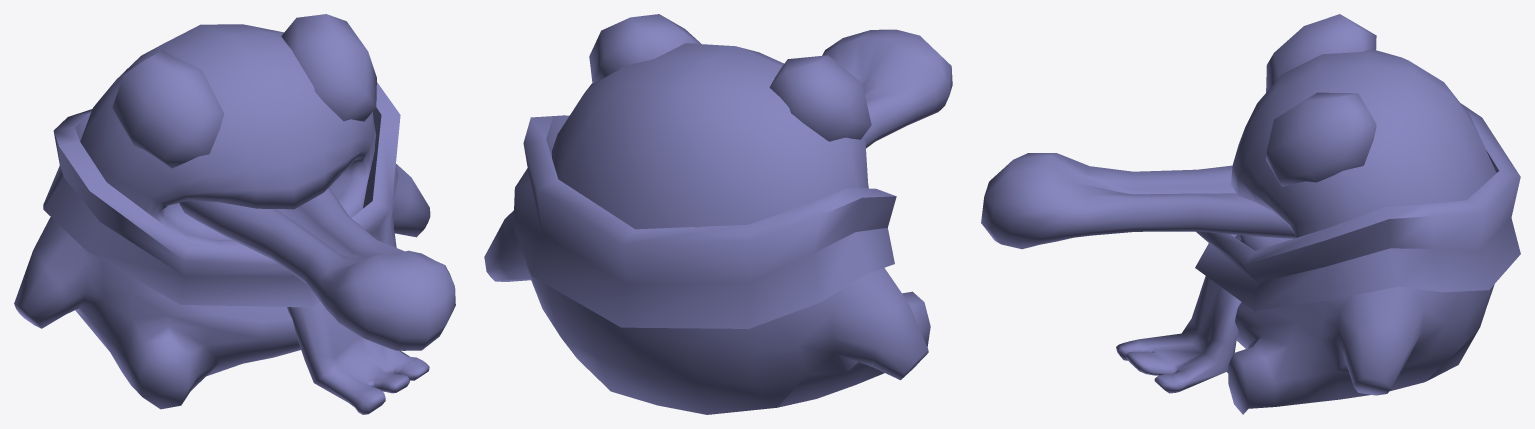
The model's file is SK_Frog.fbx.
3 views of the same model, side by side, from view 1: azimuth 30°, elevation 25°; view 2: azimuth 150°, elevation 25°; view 3: azimuth 270°, elevation 25° (orthographic). The views are drawn at different scales.
Visible parts, largest first — view 1: SK_Frog; view 2: SK_Frog; view 3: SK_Frog.
Part boxes in pixels (left/top/right/bottom): SK_Frog: left=14, top=14, right=455, bottom=414; SK_Frog: left=484, top=14, right=952, bottom=414; SK_Frog: left=981, top=14, right=1520, bottom=414.
Size of the model in its own units: 105 by 75.71 by 123.
